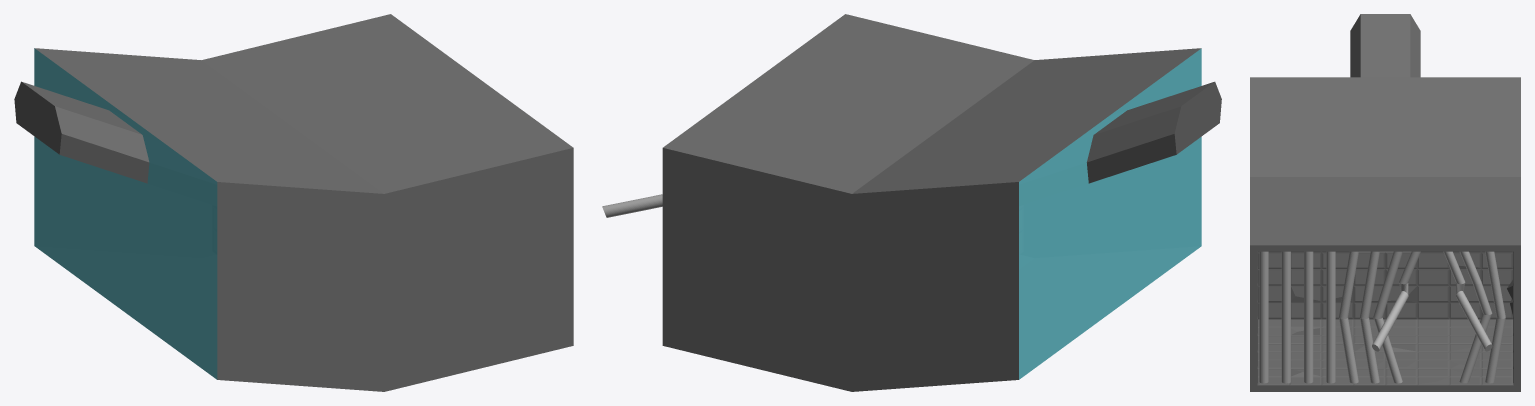
File: cage.fbx
The picture shows the model from 3 angles, left to right: view 1: azimuth 30°, elevation 25°; view 2: azimuth 150°, elevation 25°; view 3: azimuth 270°, elevation 25°; orthographic projection. The views are drawn at different scales.
Parts seen in each view (by area): view 1: Cube; view 2: Cube; view 3: Cube, Cylinder.001, Cylinder.002.
Boxes of the visible parts, <box> form: Cube: <box>14,14,573,391</box>; Cube: <box>602,14,1221,391</box>; Cube: <box>1250,14,1520,391</box>; Cylinder.001: <box>1259,251,1335,383</box>; Cylinder.002: <box>1339,251,1379,383</box>.
Bounding box in the file's own units: 1240 × 659 × 744.
